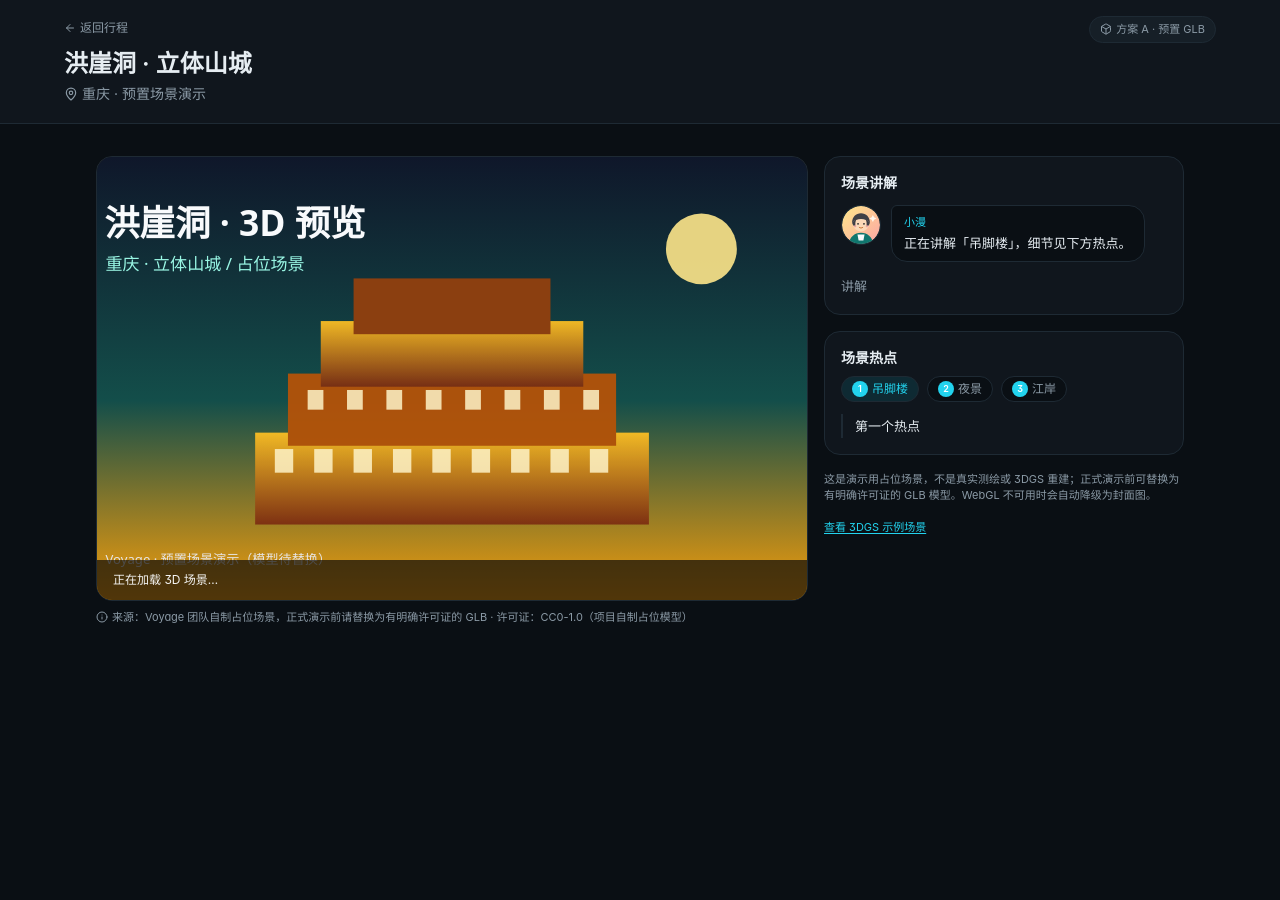
Test: SceneExperience › shows a static guide avatar with a text bubble and no audio controls
The width and height of the screenshot is (1280, 900).
Expected: the element named "讲解员" shows "小漫", [904,215,926,229]
Expected: the element named "讲解员" shows "正在讲解「吊脚楼」", [904,234,1132,250]
Step 1. Click the button "2 夜景" → point(960, 388), box [927,376,993,402]
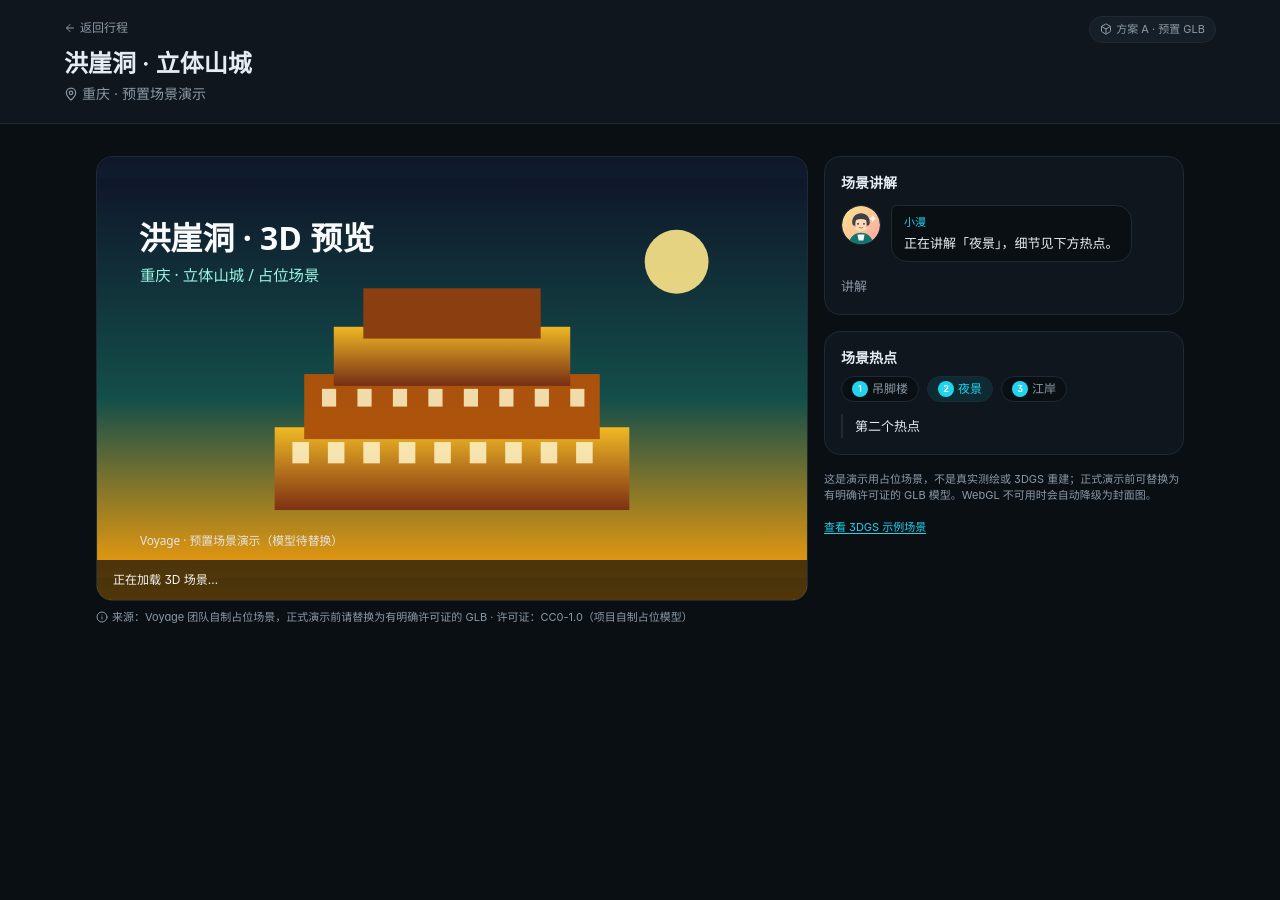
Result: the element named "讲解员" shows "正在讲解「夜景」" at [904,234,1118,250]
